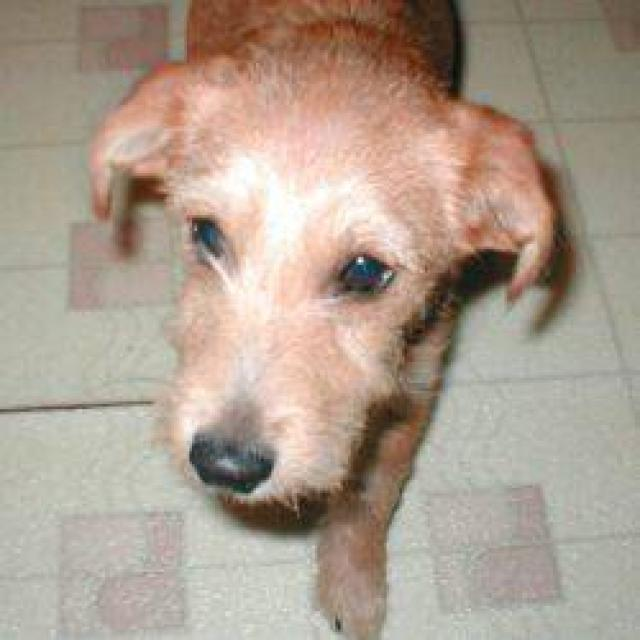Dog: (84, 40, 566, 509)
